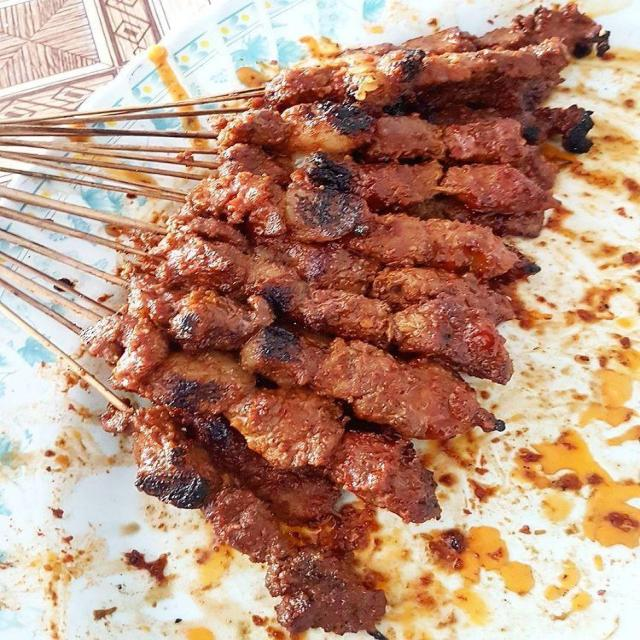Sate: (0, 86, 566, 528)
